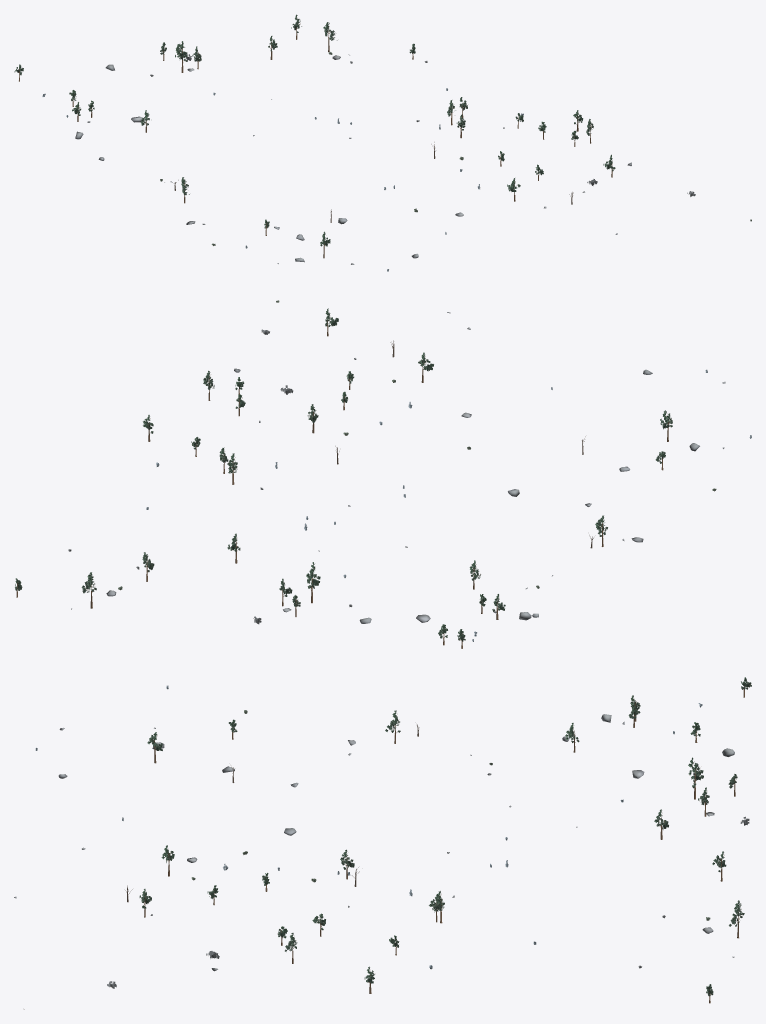
Rendered from frost_land_scatter_c20_12.glb.
The picture shows the model from 3 angles, top to bottom: view 1: azimuth 30°, elevation 25°; view 2: azimuth 150°, elevation 25°; view 3: azimuth 270°, elevation 25°; orthographic projection. The views are drawn at different scales.
Visible parts, largest first — view 1: frost_land_scatter_c20_12; view 2: frost_land_scatter_c20_12; view 3: frost_land_scatter_c20_12.
Part boxes in pixels (<box>): frost_land_scatter_c20_12: <box>14,14,751,271</box>; frost_land_scatter_c20_12: <box>15,300,751,648</box>; frost_land_scatter_c20_12: <box>14,677,751,1009</box>.
Bounding box in the file's own units: 223 × 38.51 × 254.
